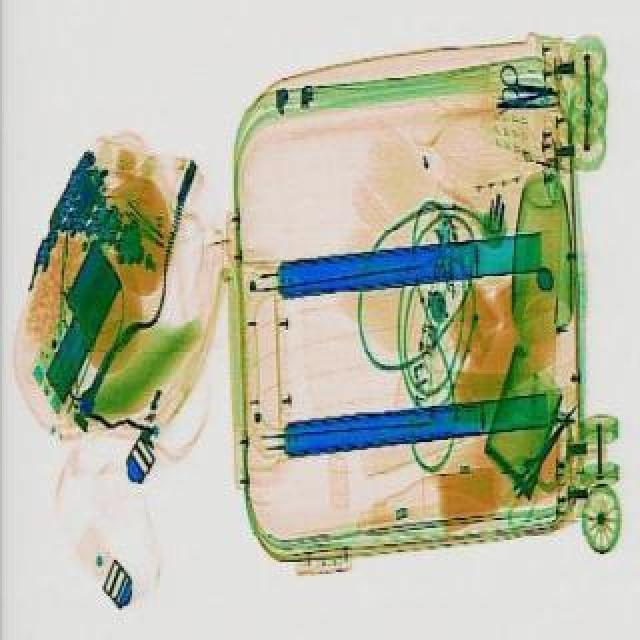knife: (504, 396, 584, 498)
pliers: (494, 60, 560, 104)
